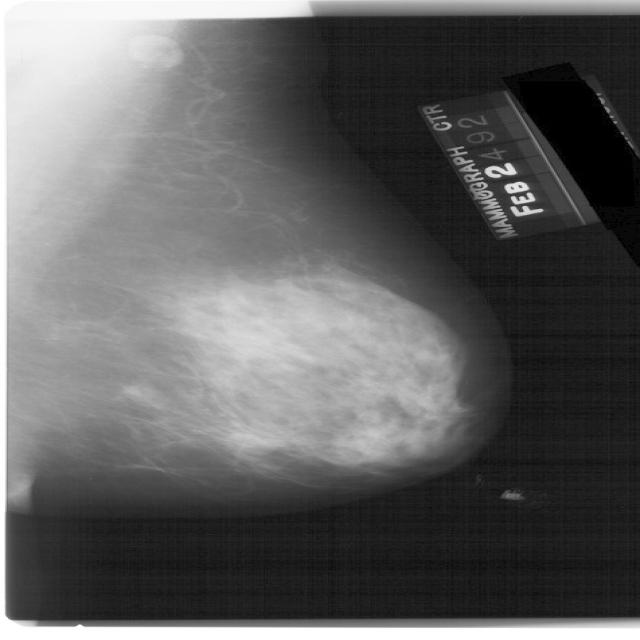tumour: (224, 427, 282, 452)
